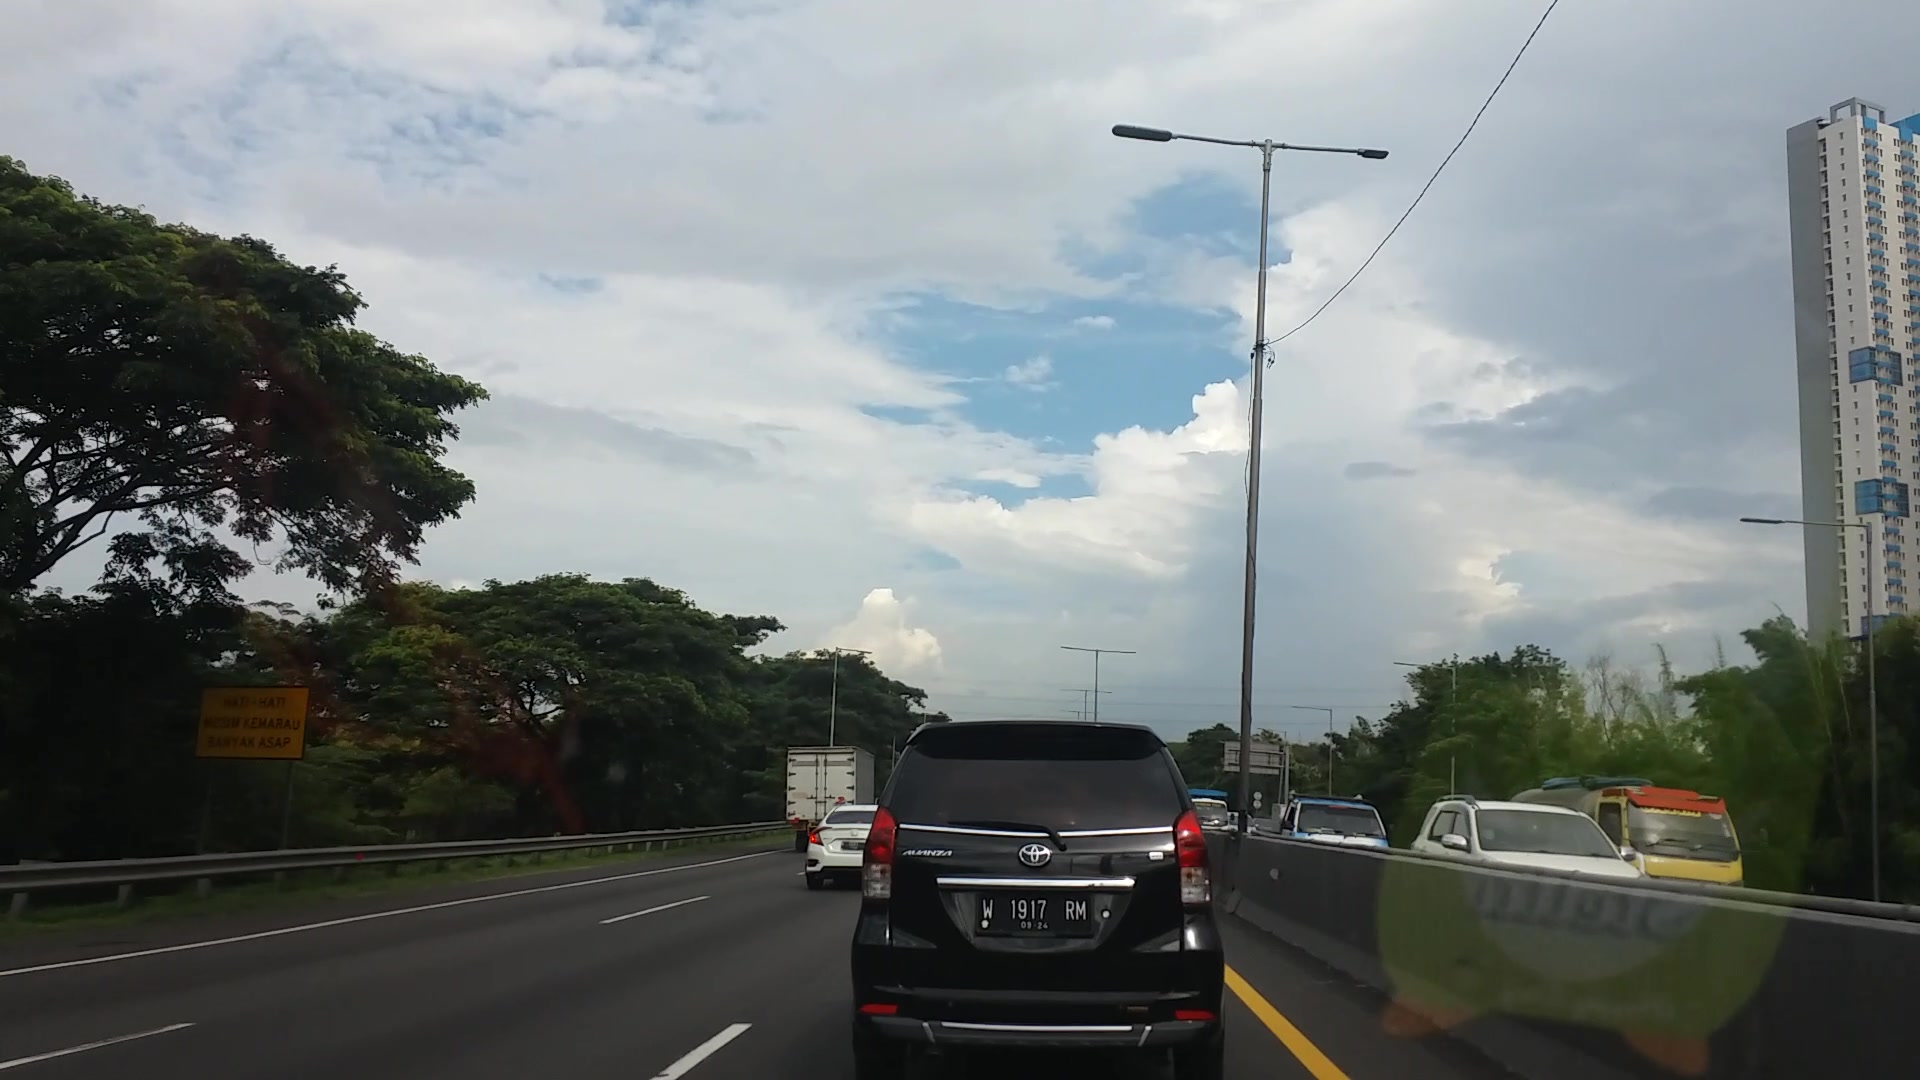plate_positive: (976, 890, 1095, 940)
